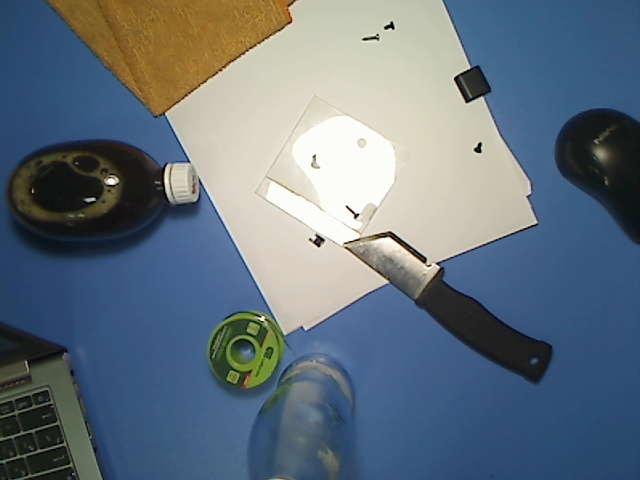plast_bottle: (5, 132, 203, 248)
